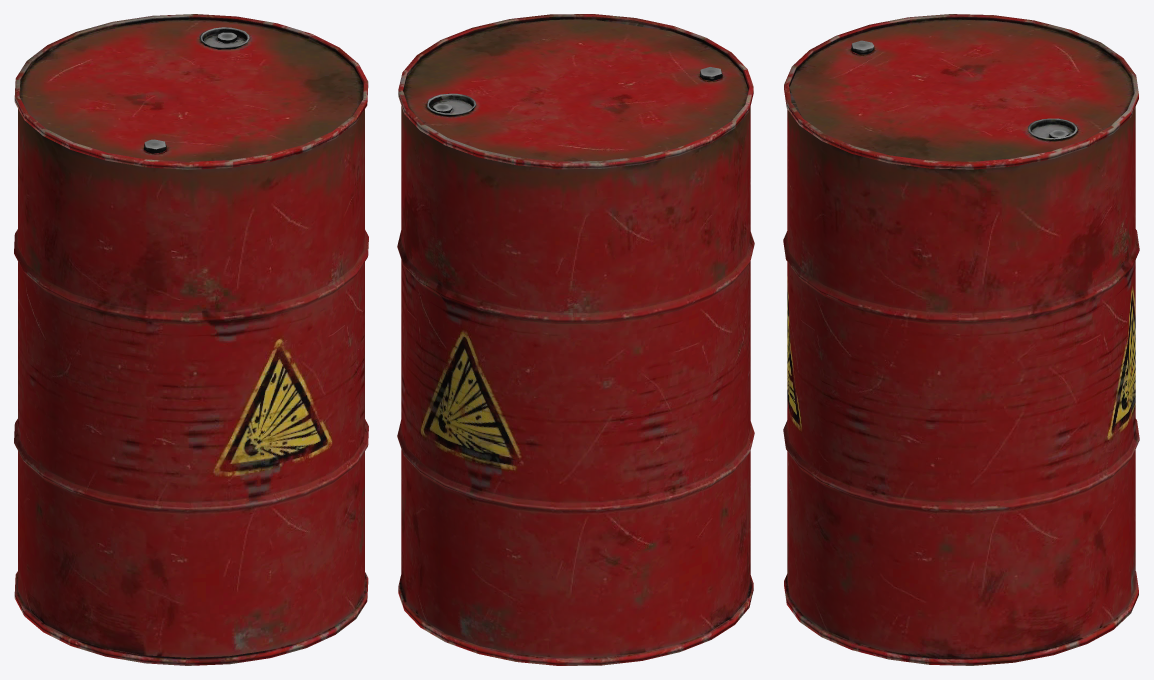
File: Barrel_01.glb
3 views of the same model, side by side, from view 1: azimuth 30°, elevation 25°; view 2: azimuth 150°, elevation 25°; view 3: azimuth 270°, elevation 25° (orthographic).
Visible parts, largest first — view 1: Barrel_01; view 2: Barrel_01; view 3: Barrel_01.
Boxes of the visible parts, x1,y1,x2,y2 form: Barrel_01: (14,14,368,665); Barrel_01: (397,14,754,665); Barrel_01: (783,14,1139,665).
Size of the model in its own units: 0.5627 by 0.8789 by 0.5627.
Materials: 1 (1 with a texture image).
